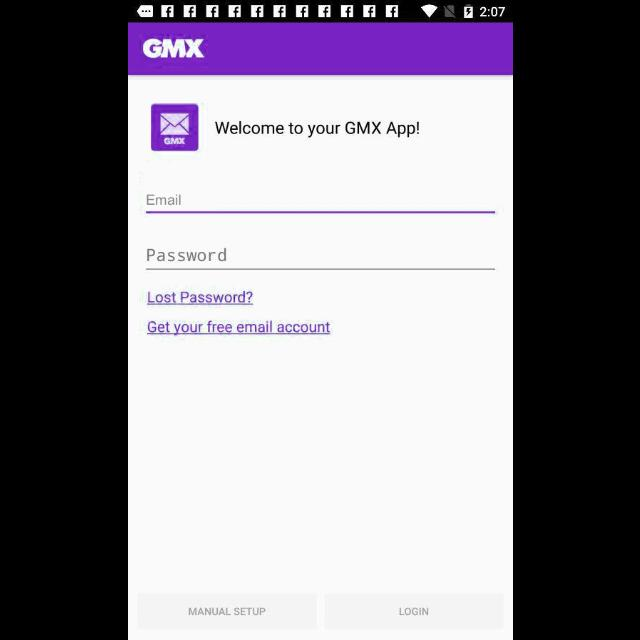image: (150, 104, 198, 152), (142, 39, 204, 59)
input: (145, 248, 495, 270), (146, 194, 494, 214)
text: (214, 121, 418, 139), (146, 319, 330, 336), (146, 291, 254, 305)
textbutton: (138, 592, 316, 630), (327, 592, 503, 630)
toolbar: (128, 24, 512, 76)
uppertaskbar: (128, 1, 512, 23)
